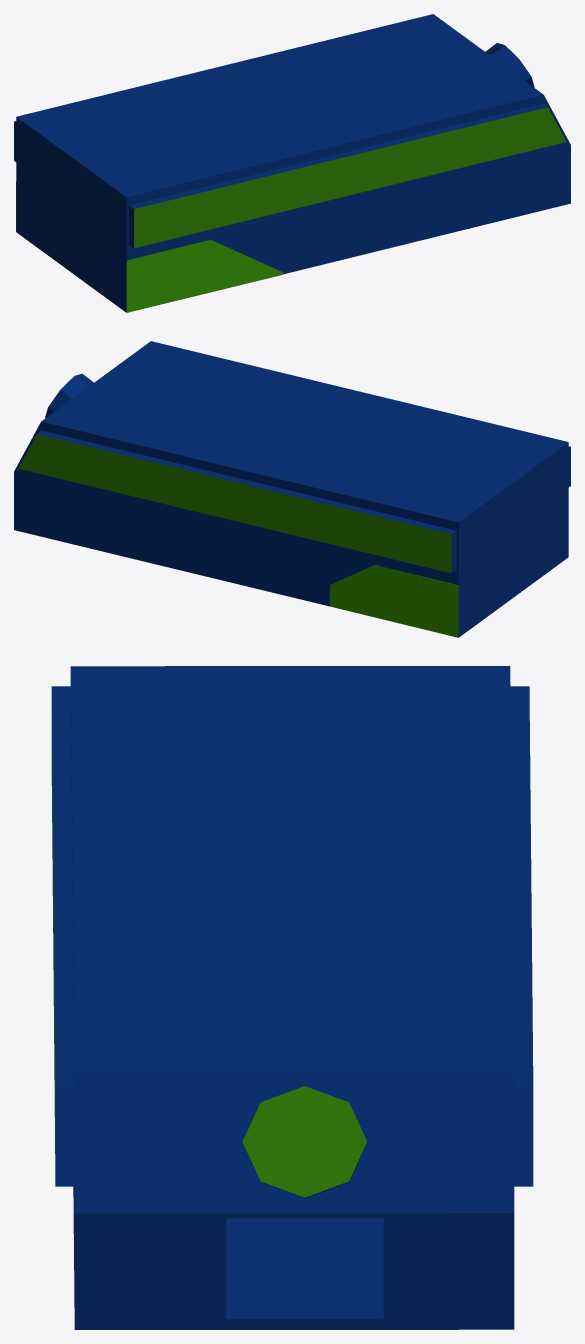
File: vb_laboratory.fbx
The picture shows the model from 3 angles, top to bottom: view 1: azimuth 30°, elevation 25°; view 2: azimuth 150°, elevation 25°; view 3: azimuth 270°, elevation 25°; orthographic projection. The views are drawn at different scales.
Visible parts, largest first — view 1: laboratory_walls, laboratory_steps; view 2: laboratory_walls, laboratory_steps; view 3: laboratory_walls.
Part boxes in pixels (<box>): laboratory_walls: <box>14,14,570,312</box>; laboratory_steps: <box>16,181,283,312</box>; laboratory_walls: <box>14,341,570,637</box>; laboratory_steps: <box>330,565,458,637</box>; laboratory_walls: <box>51,666,533,1329</box>.
Size of the model in its own units: 50.52 by 12.44 by 23.04.
